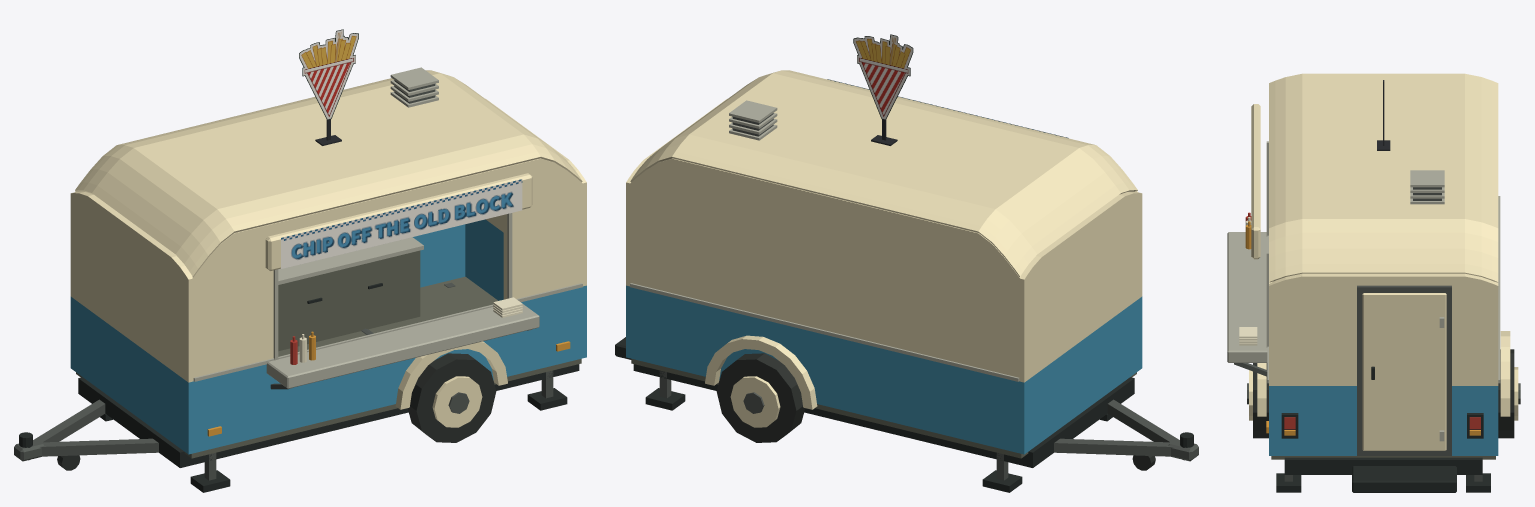
File: ft_food_chips_production_v1.glb
3 views of the same model, side by side, from view 1: azimuth 30°, elevation 25°; view 2: azimuth 150°, elevation 25°; view 3: azimuth 270°, elevation 25° (orthographic). The views are drawn at different scales.
Visible parts, largest first — view 1: ft_food_chips_production_v1; view 2: ft_food_chips_production_v1; view 3: ft_food_chips_production_v1.
Boxes of the visible parts, bbox=[...] form: ft_food_chips_production_v1: bbox=[14, 29, 586, 492]; ft_food_chips_production_v1: bbox=[615, 34, 1198, 492]; ft_food_chips_production_v1: bbox=[1227, 73, 1520, 492].
Bounding box in the file's own units: 5.85 × 3.96 × 2.81.
4 materials, 3 textured.
